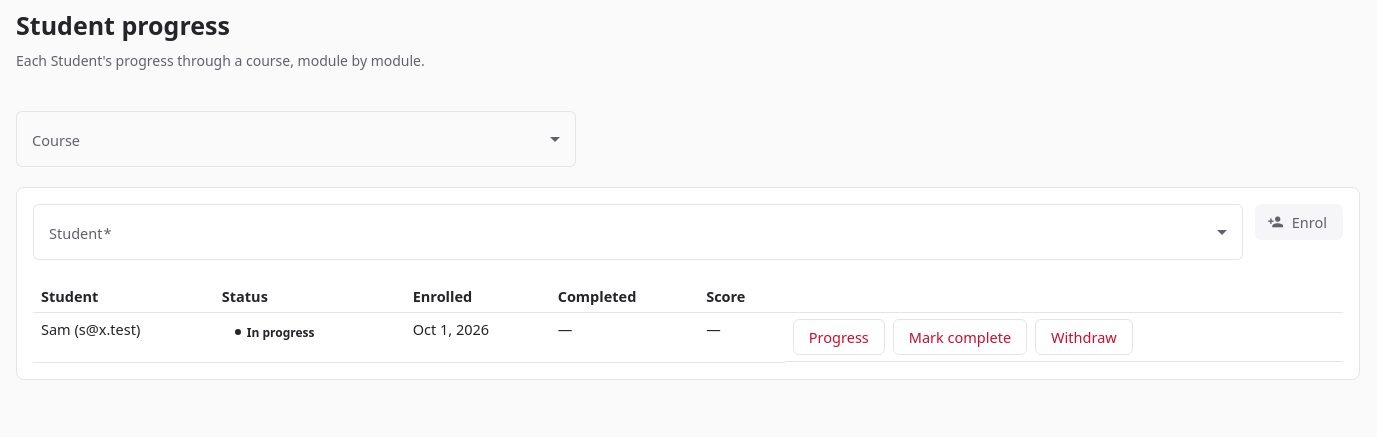
Test: LearnerProgressComponent › an instructor withdraws a Student only after the impact dialog (#200)
The image size is (1377, 437).
What coordinates should you click on to do the following:
click the button "Withdraw"
I would click on:
 (1084, 337)
Its box is 1035,319 -> 1133,355.
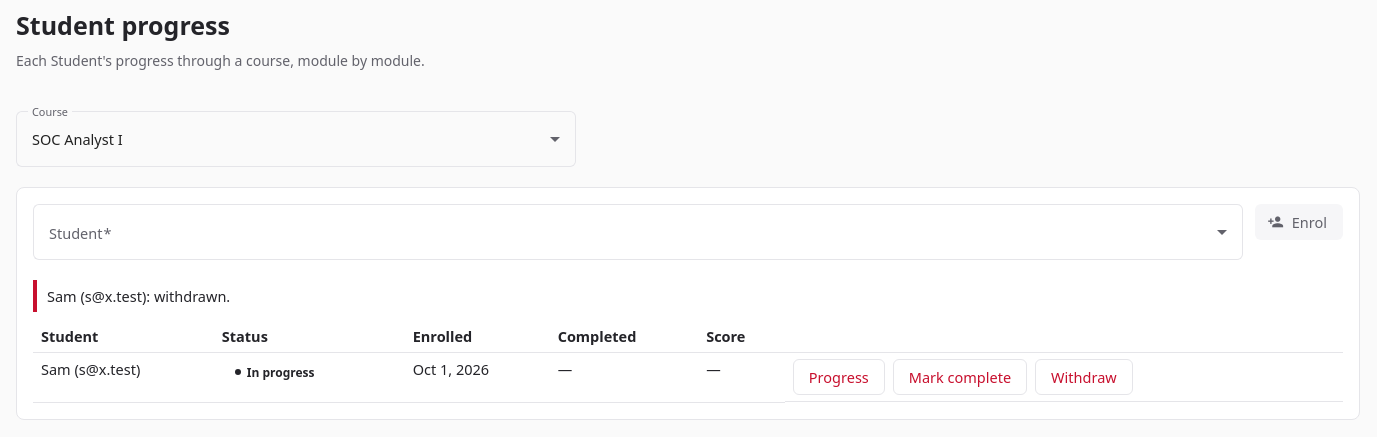
expect the text "Sam (s@x.test): withdrawn." is shown: met, box 33,280 -> 1343,312
